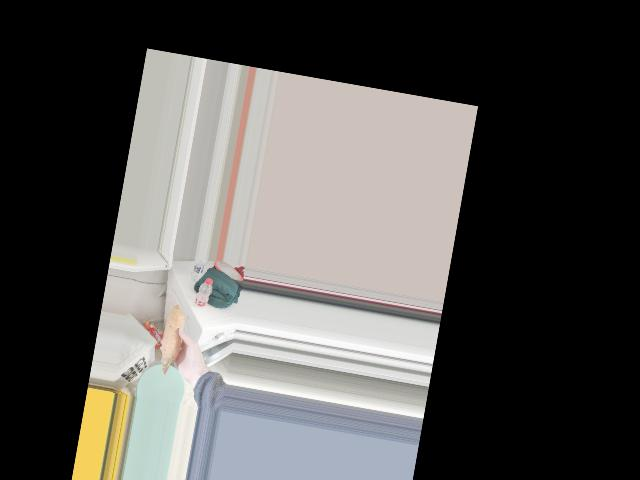sweet_potato: (159, 305, 185, 368)
